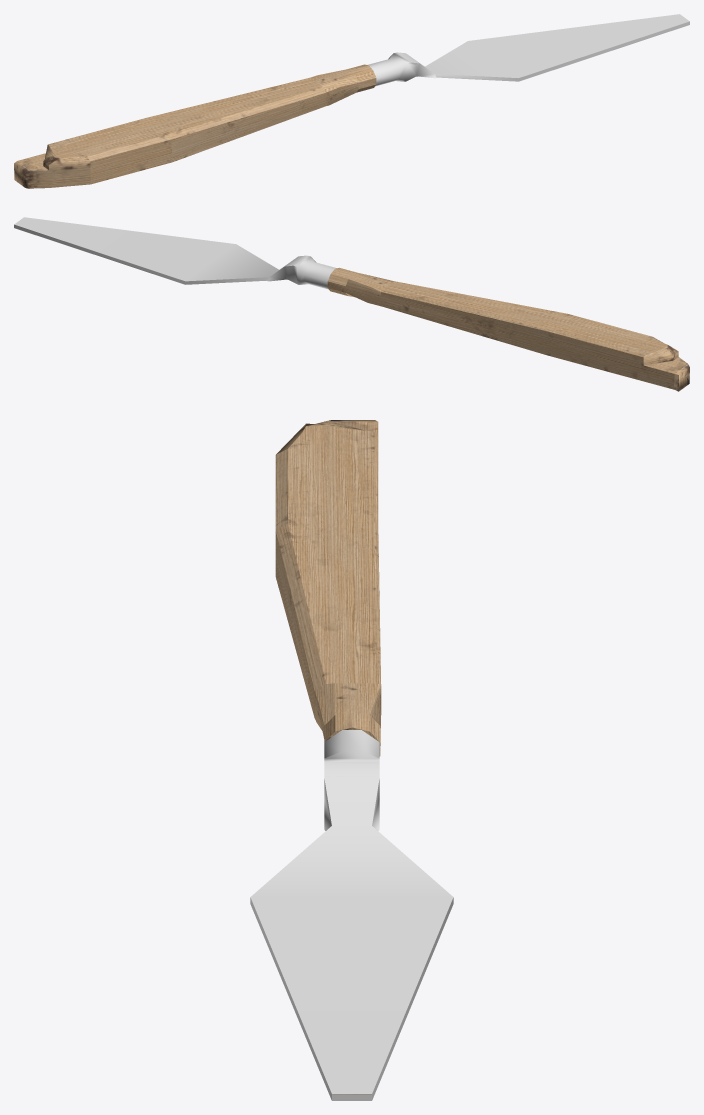
Rendered from Spatula3.fbx.
The picture shows the model from 3 angles, top to bottom: view 1: azimuth 30°, elevation 25°; view 2: azimuth 150°, elevation 25°; view 3: azimuth 270°, elevation 25°; orthographic projection. The views are drawn at different scales.
Parts seen in each view (by area): view 1: Spatula3; view 2: Spatula3; view 3: Spatula3.
Boxes of the visible parts, x1,y1,x2,y2 form: Spatula3: (14, 14, 689, 188); Spatula3: (14, 217, 689, 391); Spatula3: (250, 420, 453, 1100).
Size of the model in its own units: 0.4858 by 0.0239 by 0.0642.
